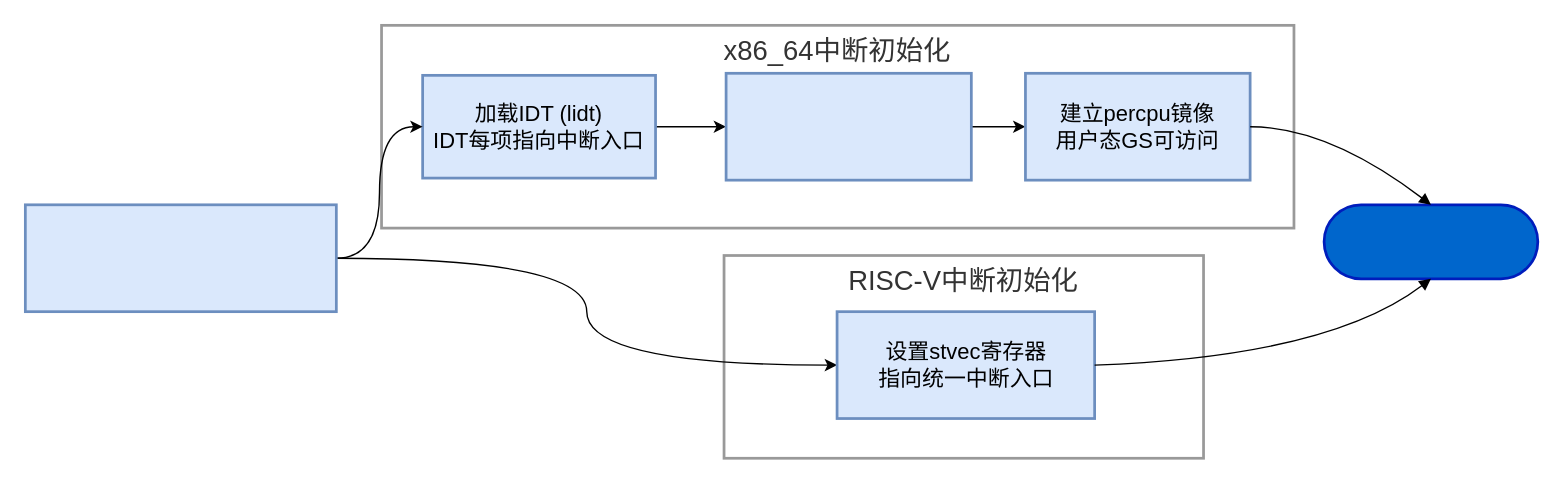
Image size: 1562x482. Some labels were removed from this diagram. The shapes that lost their labels are listed below. From the top down, each one's centre as x and y in pixels, then its label:
point 848,126: 配置LSTAR MSR 指向syscall入口
point 180,257: 建立跳板页 映射内核/用户切换代码
point 1430,241: 中断系统就绪
